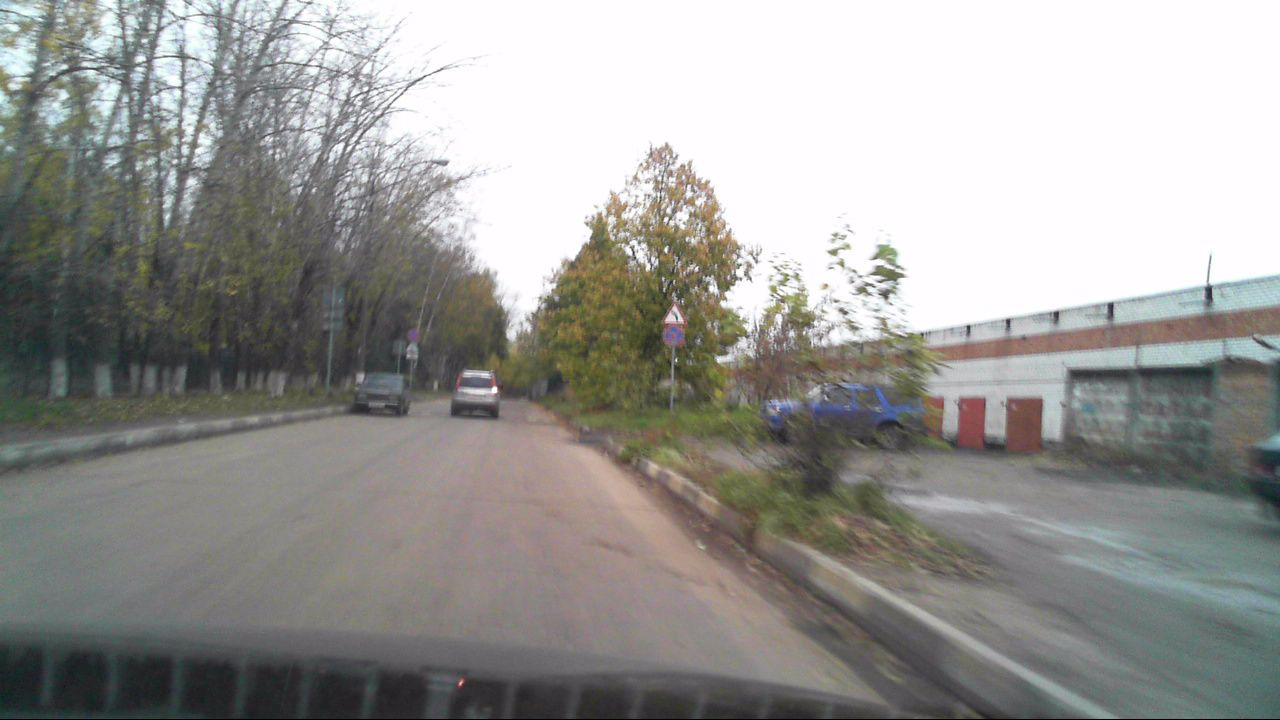No Parking: (661, 326, 684, 346)
